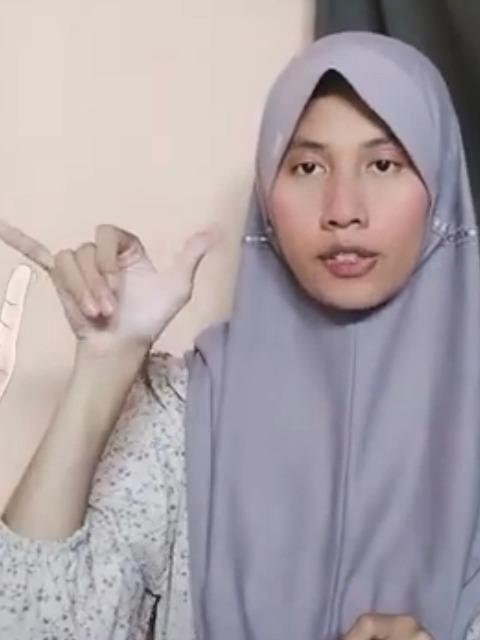Y: (0, 213, 226, 363)
